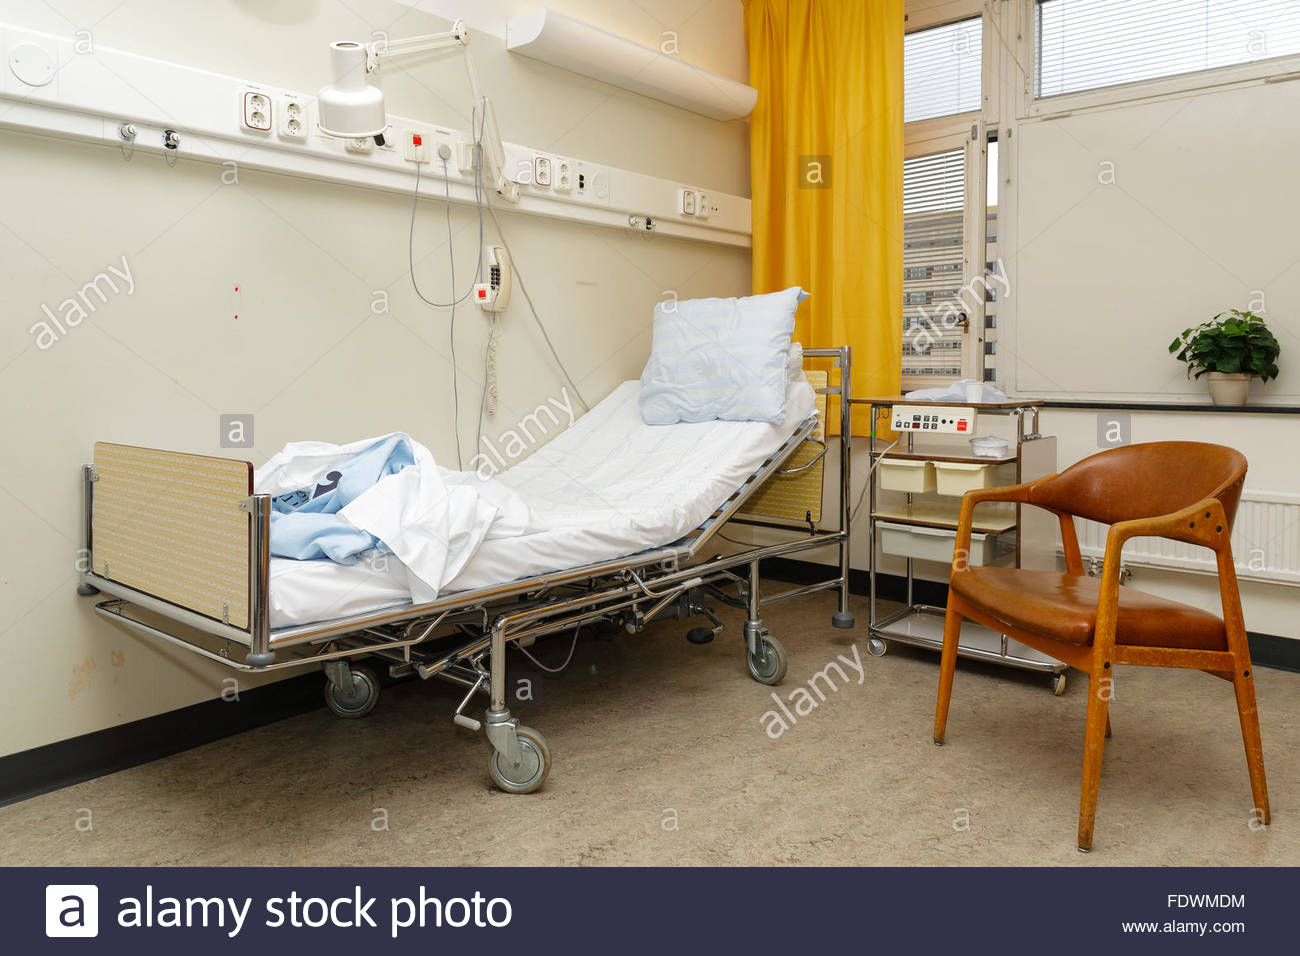hospital bed: (126, 275, 828, 661)
